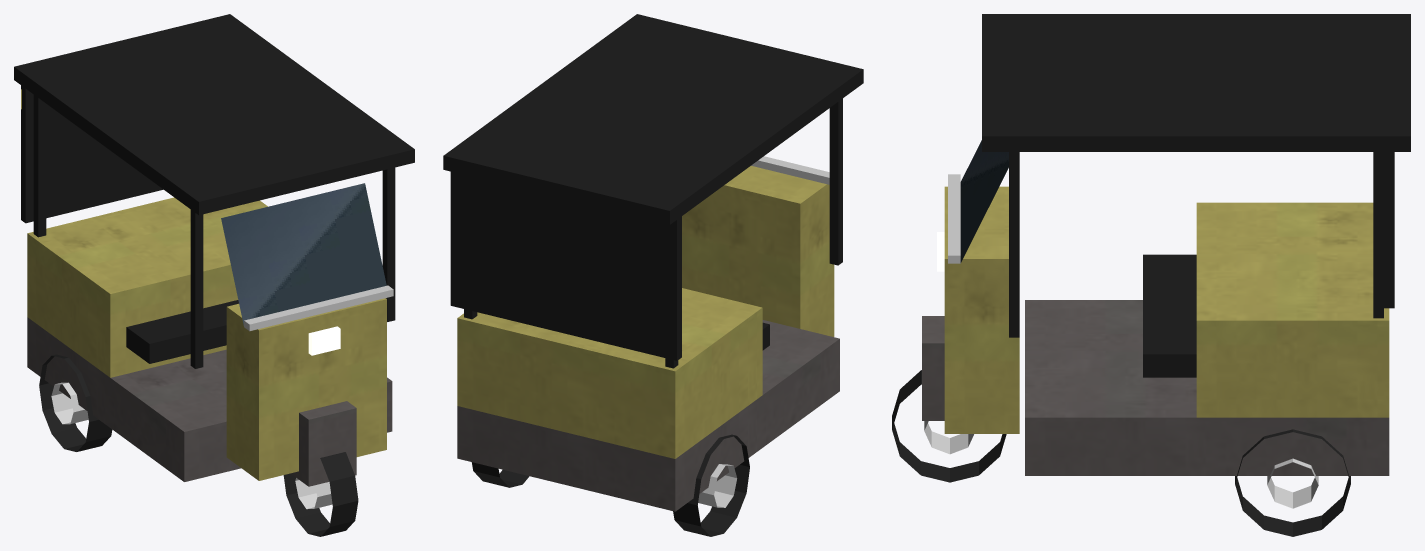
Rendered from auto.glb.
3 views of the same model, side by side, from view 1: azimuth 30°, elevation 25°; view 2: azimuth 150°, elevation 25°; view 3: azimuth 270°, elevation 25° (orthographic). The views are drawn at different scales.
Visible parts, largest first — view 1: auto_2, auto_1, auto_0, auto_3, auto_5, auto_4, auto_6; view 2: auto_2, auto_1, auto_0, auto_5, auto_4; view 3: auto_2, auto_1, auto_0, auto_5, auto_4, auto_3.
Boxes of the visible parts, bbox=[...] form: auto_2: bbox=[14, 14, 414, 368]; auto_1: bbox=[21, 89, 386, 480]; auto_0: bbox=[27, 317, 392, 486]; auto_3: bbox=[221, 183, 386, 325]; auto_5: bbox=[39, 354, 358, 536]; auto_4: bbox=[51, 285, 393, 509]; auto_6: bbox=[308, 326, 340, 355]; auto_2: bbox=[443, 14, 863, 368]; auto_1: bbox=[457, 166, 834, 458]; auto_0: bbox=[457, 320, 839, 511]; auto_5: bbox=[471, 434, 749, 536]; auto_4: bbox=[698, 156, 829, 507]; auto_2: bbox=[982, 14, 1410, 377]; auto_1: bbox=[944, 186, 1389, 433]; auto_0: bbox=[922, 300, 1389, 475]; auto_5: bbox=[892, 370, 1350, 536]; auto_4: bbox=[924, 174, 1318, 508]; auto_3: bbox=[960, 140, 1008, 262].
Size of the model in its own units: 1.38 by 2.06 by 2.42.
7 materials, 7 textured.
